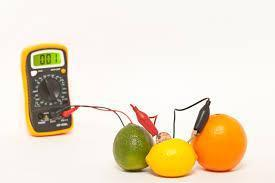lemon: (145, 138, 198, 177)
